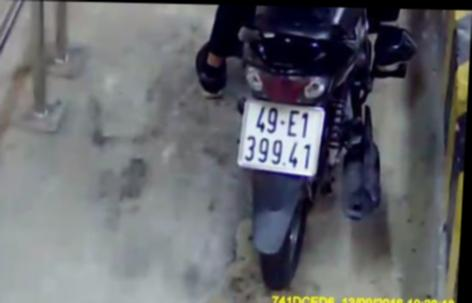License_Plate: (230, 92, 330, 180)
